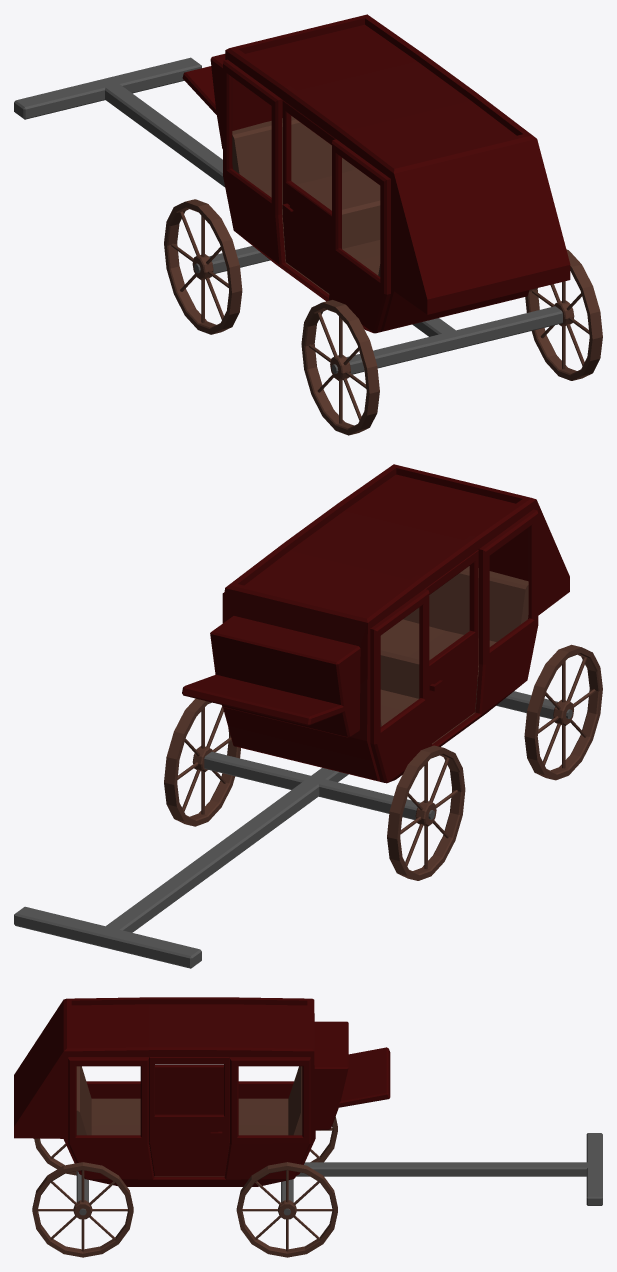
Rendered from stagecoach.glb.
3 renders of one model, top to bottom at view 1: azimuth 30°, elevation 25°; view 2: azimuth 150°, elevation 25°; view 3: azimuth 270°, elevation 25°, orthographic. The views are drawn at different scales.
Visible parts, largest first — view 1: Stagecoach (×3); view 2: Stagecoach (×3); view 3: Stagecoach (×3).
Part boxes in pixels (x1,y1,x2,y2): Stagecoach (×3): (14,14,602,435); Stagecoach (×3): (14,464,602,968); Stagecoach (×3): (14,997,602,1257).
Size of the model in its own units: 3.12 by 3.28 by 9.08.
